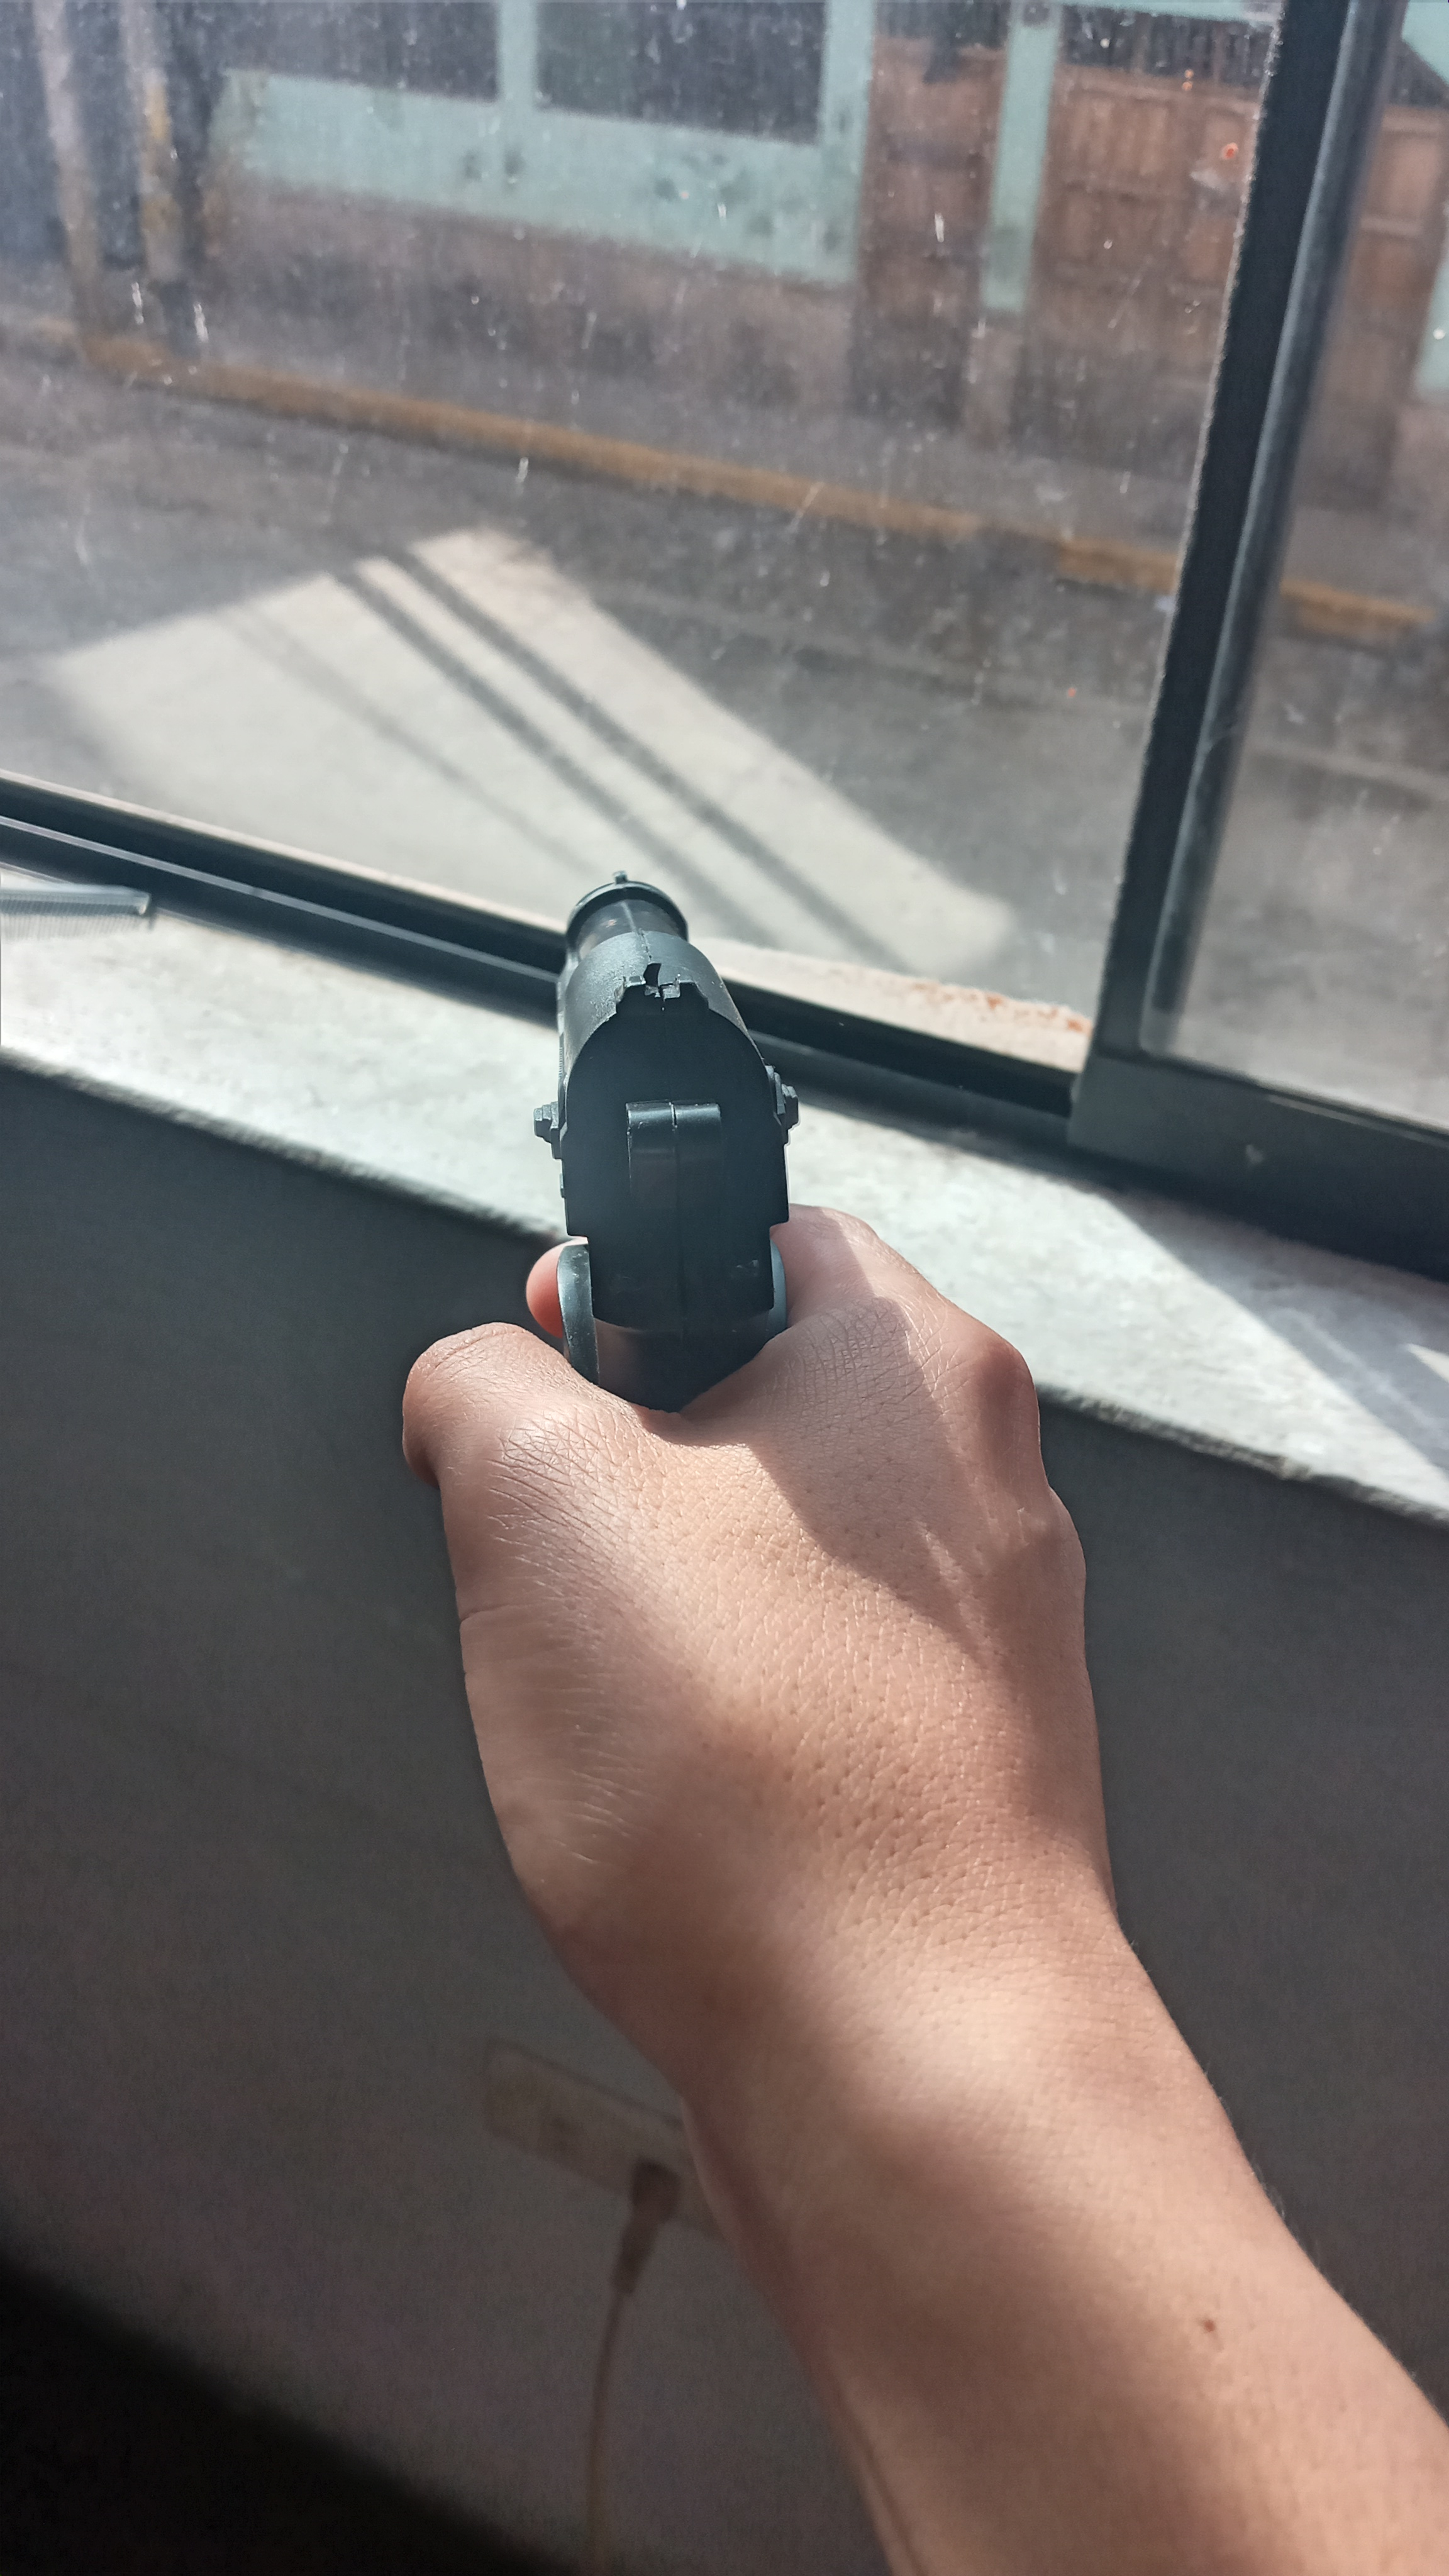Arma: (518, 879, 789, 1387)
